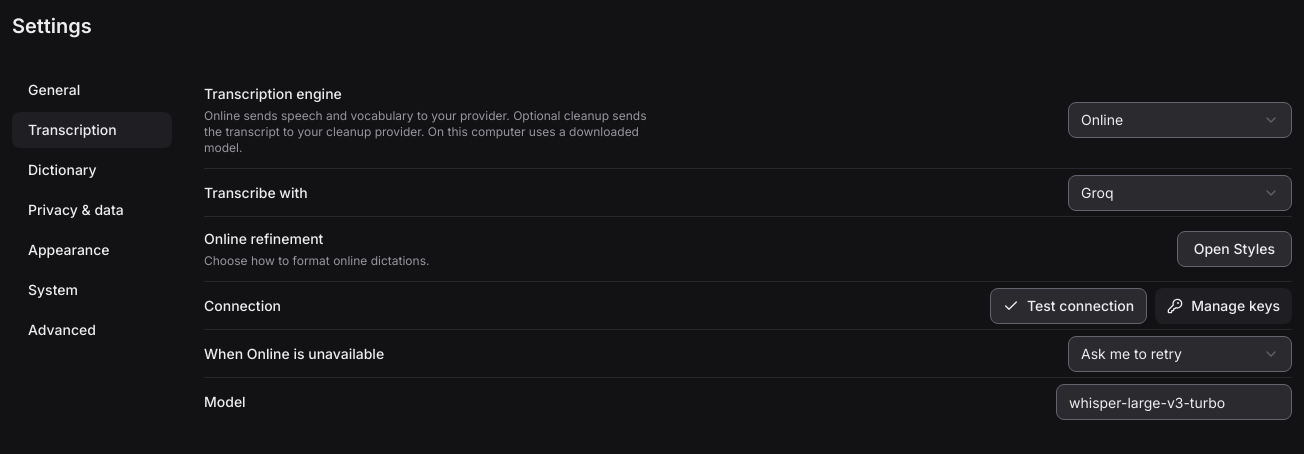
Test: resets connection feedback when the checked provider changes
Click the button "Test connection". click: (1069, 306)
box: [990,288,1147,324]
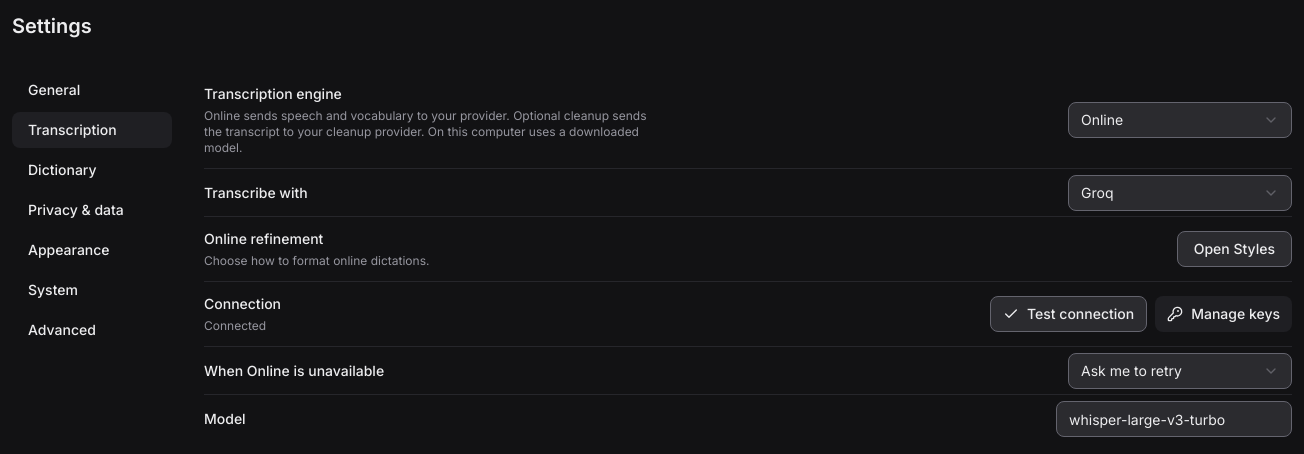
Now the text "Connected" is shown, box [204,318,266,333]
